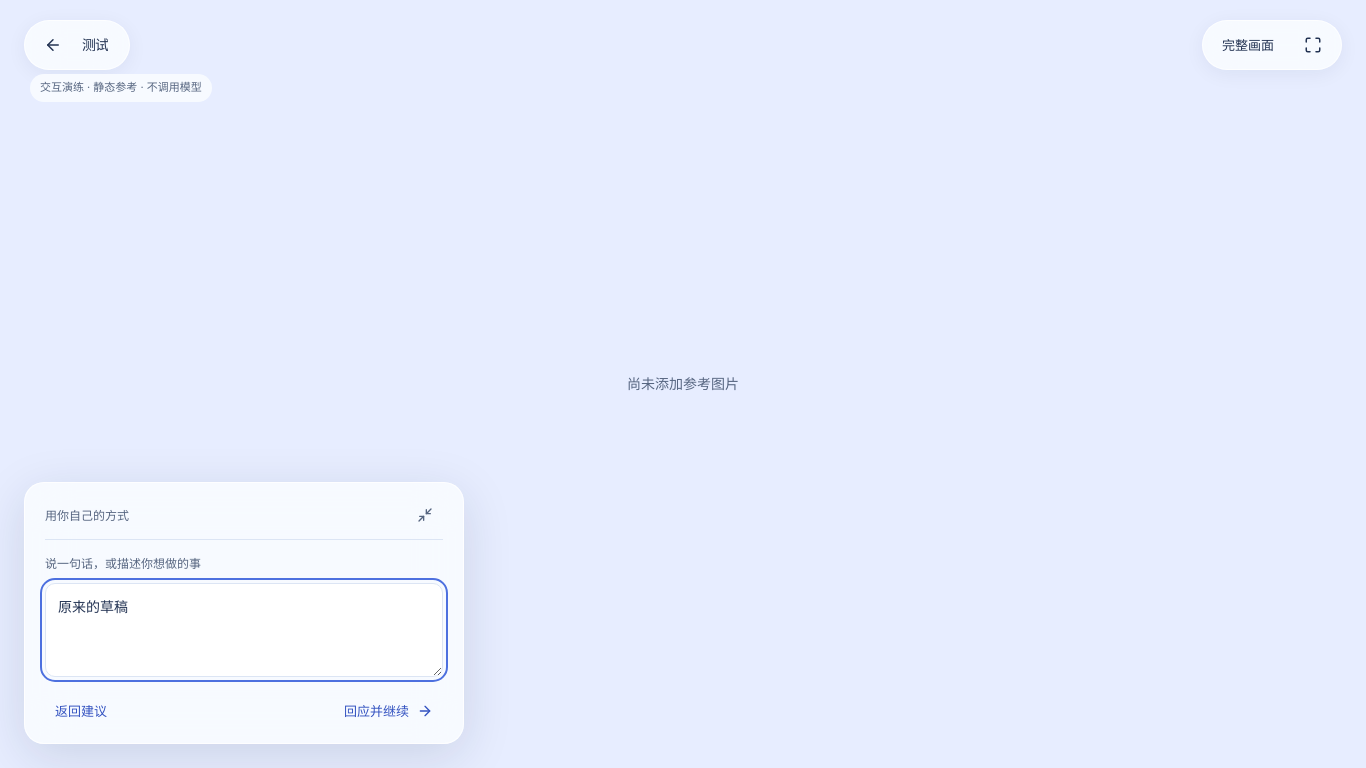
a failed suggested response keeps the attempted text and focuses the editor
The image size is (1366, 768).
Click the button "返回建议" at (81, 711), box [45,691,117,731]
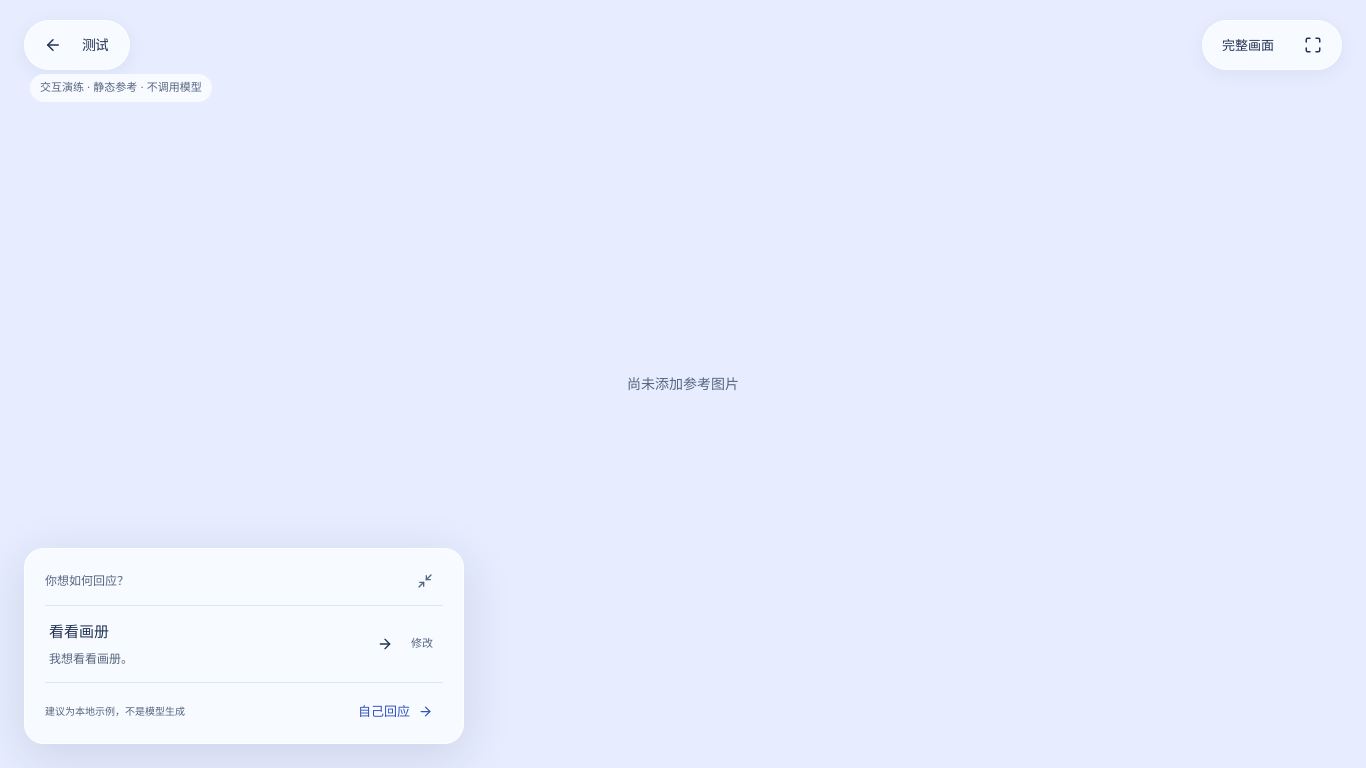
Click the button "看看画册 我想看看画册。" at (79, 631), box [45,606,397,682]
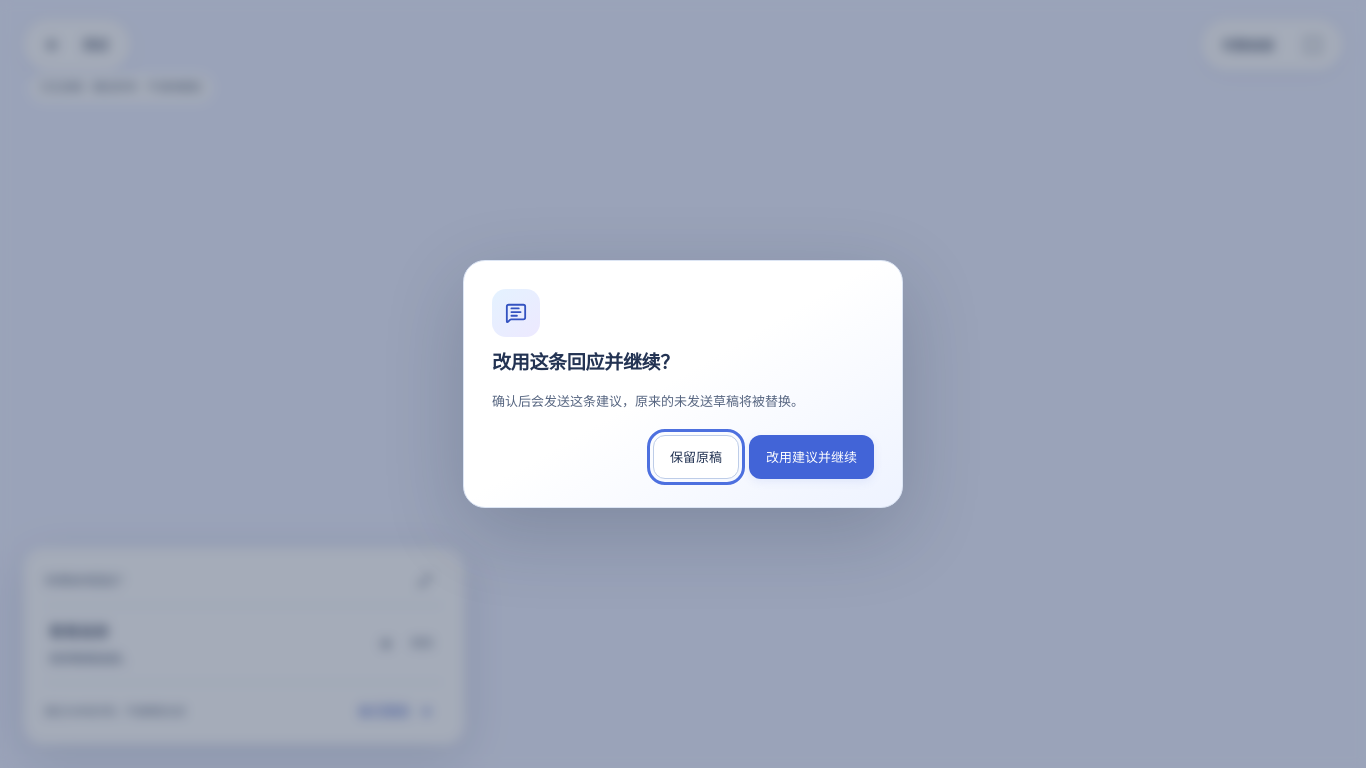
Click the button "改用建议并继续" at (812, 457), box [749,435,874,479]
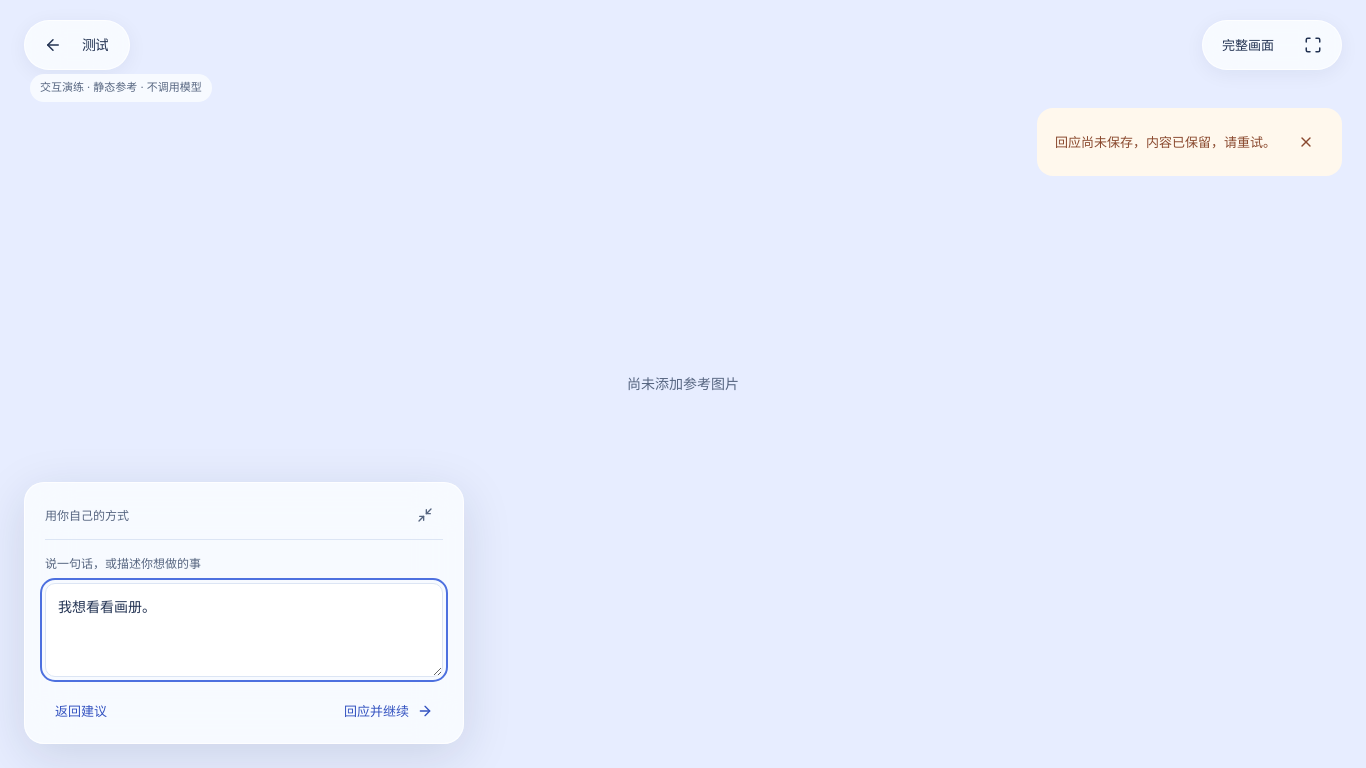
Expected: the text box holds "我想看看画册。", [45,583,443,677]
Expected: the message shows "内容已保留", [1055,134,1276,150]
